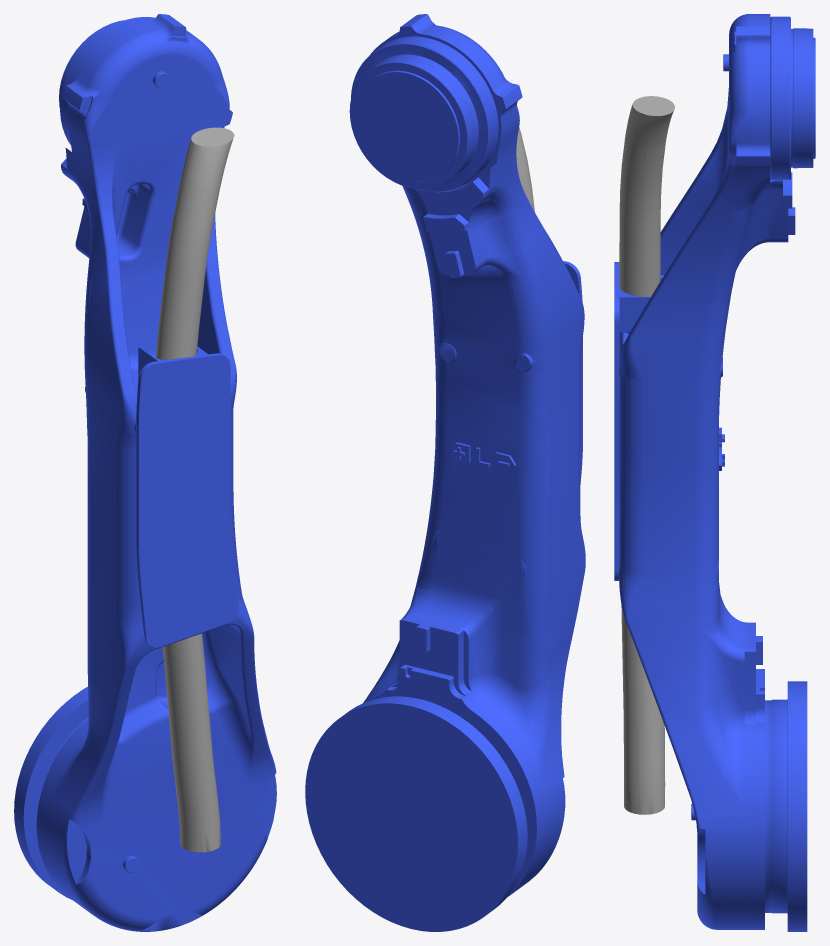
3 renders of one model, left to right at view 1: azimuth 30°, elevation 25°; view 2: azimuth 150°, elevation 25°; view 3: azimuth 270°, elevation 25°, orthographic. The views are drawn at different scales.
Visible parts, largest first — view 1: L_Axis; view 2: L_Axis; view 3: L_Axis.
Part boxes in pixels (x1,y1,x2,y2): L_Axis: (14,14,276,931); L_Axis: (305,14,585,931); L_Axis: (614,14,815,931).
Size of the model in its own units: 0.244 by 0.1955 by 0.9693.
